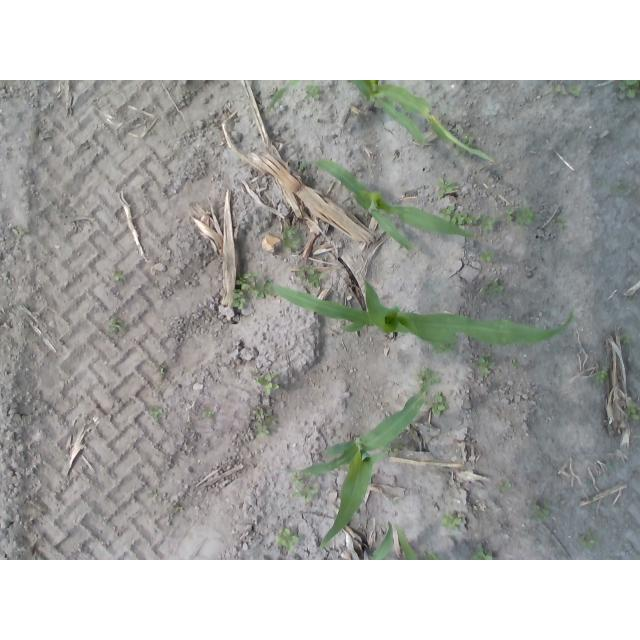Maize: (295, 370, 429, 550), (268, 279, 575, 351), (264, 80, 496, 165), (307, 160, 474, 253), (372, 521, 421, 560)
Weeds: (294, 476, 317, 501), (617, 80, 640, 101), (436, 177, 460, 196), (446, 205, 471, 223), (277, 529, 299, 548), (443, 513, 462, 531), (308, 267, 327, 285), (477, 354, 492, 375), (230, 292, 247, 309), (238, 274, 255, 291), (531, 504, 549, 520), (431, 396, 445, 416), (515, 209, 535, 223), (260, 374, 281, 387), (287, 231, 301, 250), (483, 279, 505, 291), (473, 546, 491, 560), (578, 532, 595, 546), (111, 317, 125, 332), (596, 369, 609, 385), (306, 85, 320, 99), (113, 270, 127, 282), (483, 217, 497, 228), (498, 482, 510, 494), (482, 251, 494, 262), (554, 217, 566, 228), (503, 208, 514, 220), (256, 425, 268, 436), (465, 133, 476, 144), (425, 551, 440, 559), (571, 86, 581, 97), (267, 416, 278, 425), (153, 411, 163, 420), (256, 409, 265, 419), (202, 411, 213, 418), (176, 506, 184, 511)
